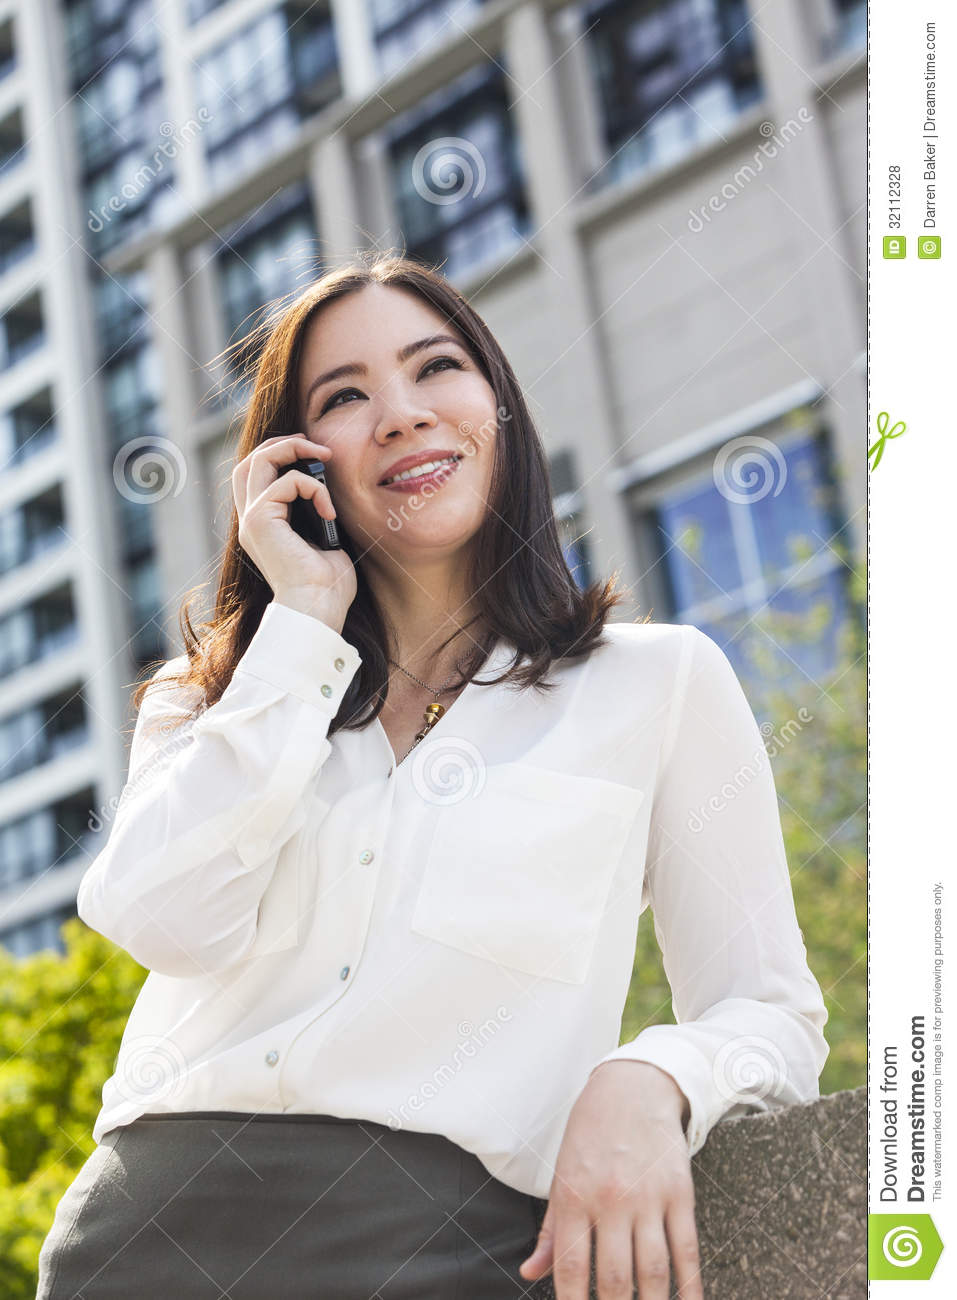talk: (223, 322, 500, 631)
